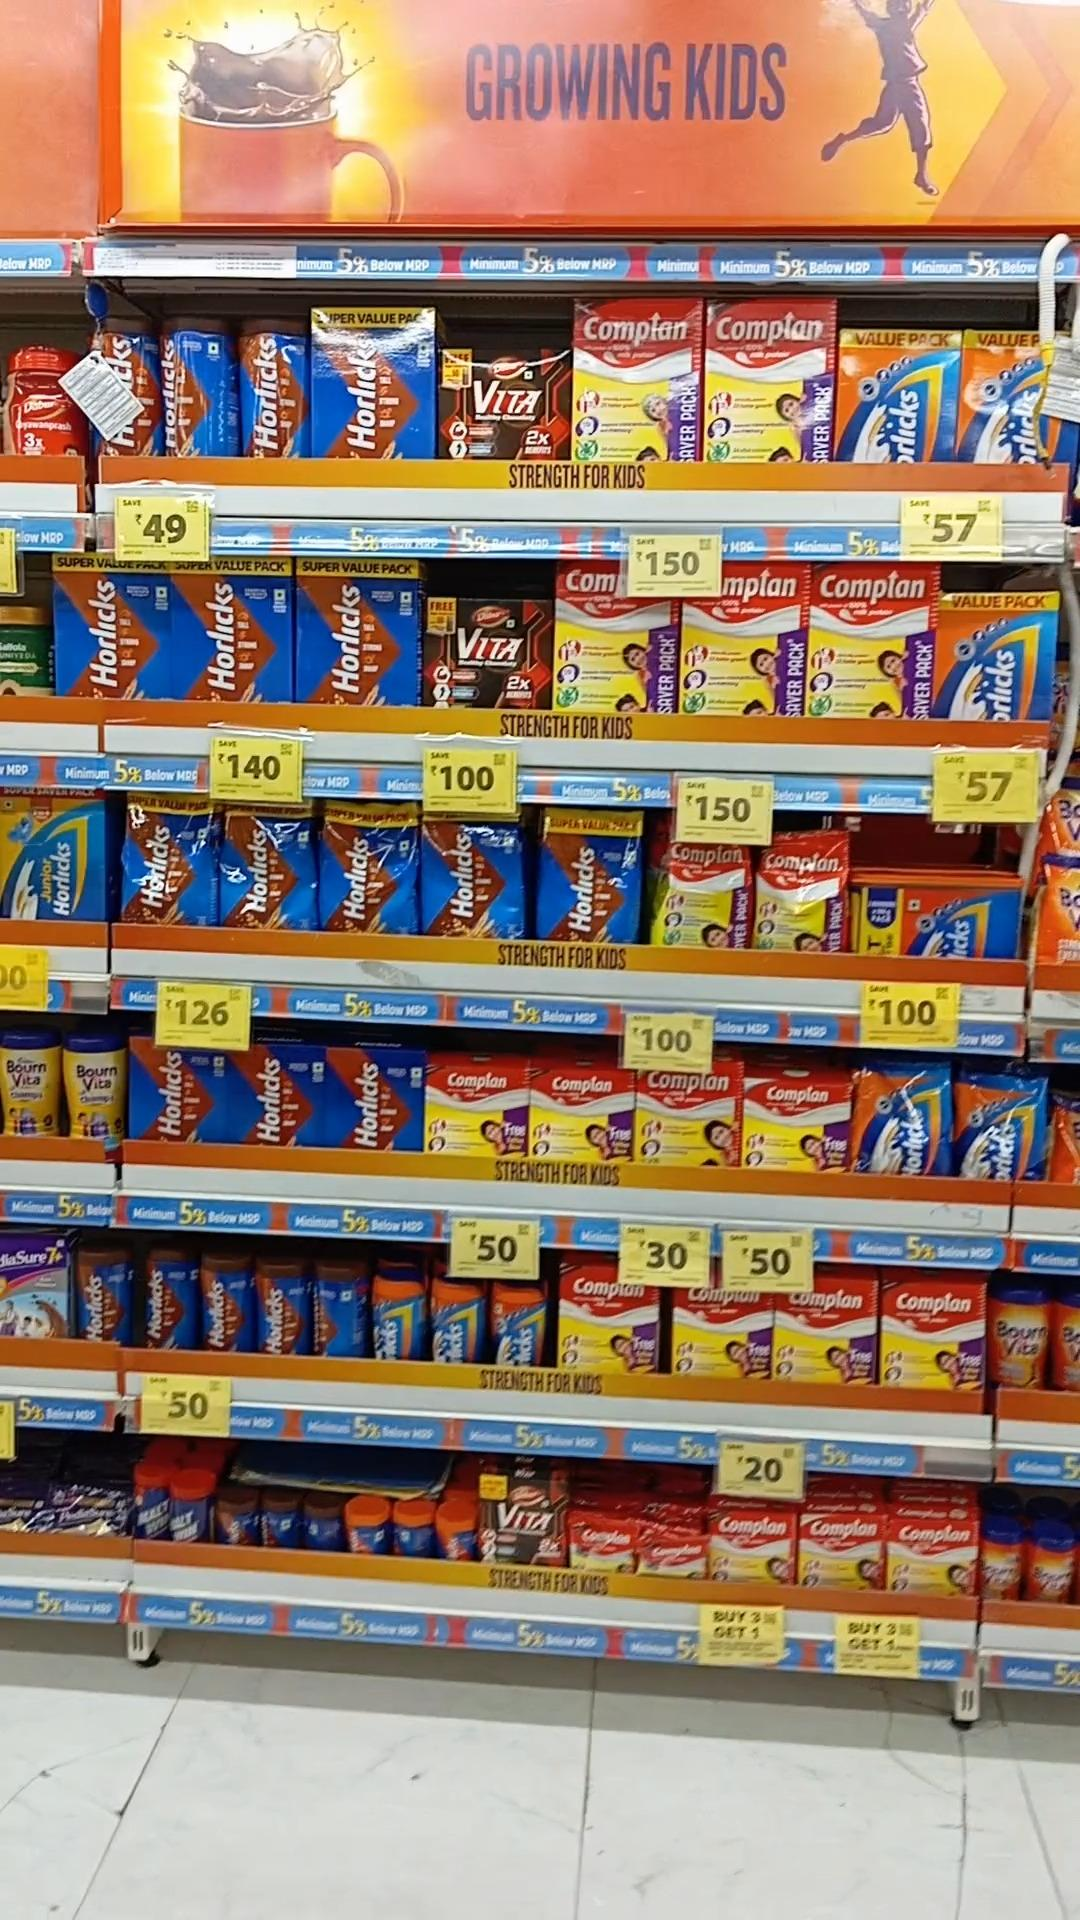BOURN_VITA_CHAMPS_500_G_JAR: (63, 1034, 124, 1150), (0, 1031, 61, 1138)
COMPLAN_CHOCOLATE_1_KG_PACK: (707, 301, 832, 463), (575, 297, 696, 464), (811, 566, 934, 725), (683, 567, 804, 723), (556, 556, 674, 709)
COMPLAN_CHOCOLATE_200_GMS_PACK: (711, 1513, 791, 1584)
COMPLAN_CHOCOLATE_500_GMS_PACK: (881, 1284, 984, 1395), (559, 1269, 657, 1375), (530, 1067, 632, 1164), (427, 1064, 521, 1160)
COMPLAN_CREAMY_CLASSIC_500_G_PACK: (744, 1081, 851, 1172)
COMPLAN_KESAR_BADAM_200_GMS_PACK: (802, 1515, 885, 1589)
COMPLAN_RC_POUCH_700_GMS_12: (760, 833, 847, 952), (658, 843, 753, 951)
HORLICK_CHOCOLATE_1_KG_JAR: (157, 313, 233, 464), (82, 314, 156, 456), (240, 320, 307, 463)
HORLICK_CHOCOLATE_1_KG_PACK: (311, 307, 435, 455), (170, 555, 291, 704), (297, 563, 417, 708), (61, 555, 164, 708)
HORLICK_CHOCOLATE_500_G_JAR: (252, 1253, 306, 1357), (137, 1251, 193, 1352), (79, 1249, 132, 1346), (202, 1254, 249, 1354)
HORLICK_CHOCOLATE_500_G_PACK: (132, 1038, 225, 1146), (328, 1050, 422, 1153), (229, 1047, 320, 1149)
HORLICK_CHOCOLATE_750_G_POUCH: (538, 799, 634, 949), (323, 798, 419, 938), (113, 790, 208, 928), (426, 808, 526, 938), (218, 799, 314, 932)
HORLICK_CLASSIC_MALT_500_G_JAR: (367, 1265, 422, 1365), (491, 1282, 545, 1370), (430, 1275, 483, 1365)
HORLICK_CLASSIC_MALT_500_G_PACK: (963, 330, 1080, 464), (843, 327, 959, 460), (935, 593, 1056, 720)
HORLICK_CLASSIC_MALT_750_G_POUCH: (860, 1064, 953, 1184), (956, 1071, 1047, 1184)
HORLICK_MALT_1_KG_CONTAINER: (852, 873, 1023, 960)
PEDIASURE_7_PLUS_CHOCOLATE_400_G_PACK: (1, 1232, 70, 1342)
